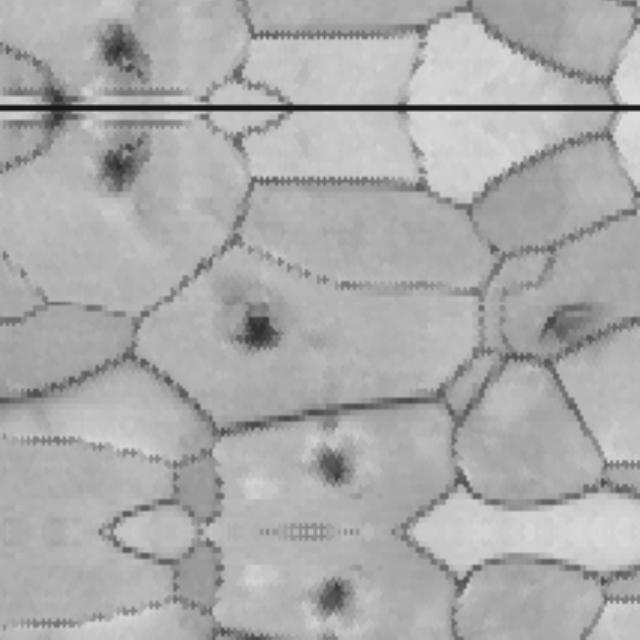good_void: (93, 127, 163, 203), (93, 11, 163, 87), (535, 294, 612, 344), (309, 445, 367, 490), (309, 573, 367, 618), (227, 310, 279, 359)
